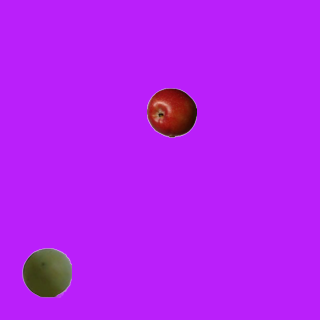Apple Braeburn: (146, 87, 196, 137)
Grape White 4: (21, 247, 71, 297)
